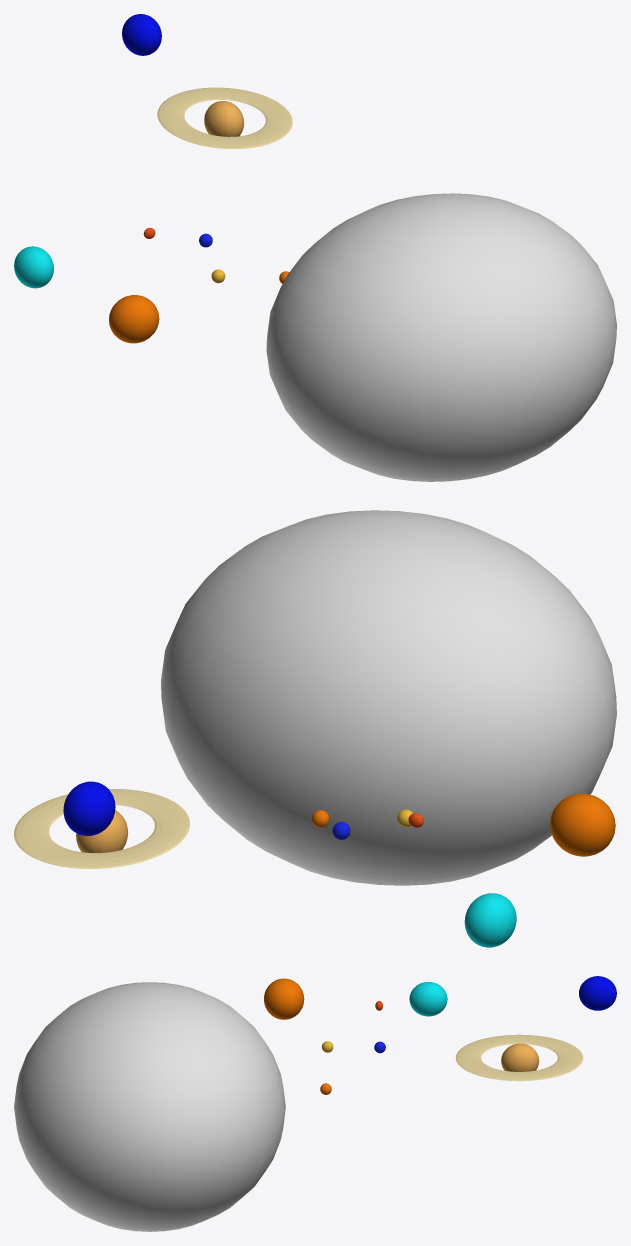
File: Sys.gltf
3 views of the same model, one above another, from view 1: azimuth 30°, elevation 25°; view 2: azimuth 150°, elevation 25°; view 3: azimuth 270°, elevation 25° (orthographic). The views are drawn at different scales.
Visible parts, largest first — view 1: Sphere, Torus, Sphere.005, Sphere.008, Sphere.009, Sphere.007; view 2: Sphere, Torus, Sphere.005, Sphere.008, Sphere.009, Sphere.007; view 3: Sphere, Torus, Sphere.005, Sphere.008, Sphere.009, Sphere.007.
Part boxes in pixels (x1,y1,x2,y2): Sphere: (266, 193, 616, 481); Torus: (157, 87, 292, 148); Sphere.005: (109, 295, 159, 343); Sphere.008: (14, 246, 53, 288); Sphere.009: (122, 14, 161, 55); Sphere.007: (204, 101, 244, 136); Sphere: (161, 510, 616, 885); Torus: (14, 789, 189, 868); Sphere.005: (550, 793, 615, 856); Sphere.008: (464, 893, 516, 947); Sphere.009: (63, 781, 115, 835); Sphere.007: (76, 810, 128, 852); Sphere: (14, 982, 285, 1231); Torus: (455, 1034, 583, 1081); Sphere.005: (264, 978, 304, 1019); Sphere.008: (409, 982, 447, 1016); Sphere.009: (579, 976, 616, 1010); Sphere.007: (501, 1043, 539, 1071).
Size of the model in its own units: 69.71 by 42.1 by 104.
